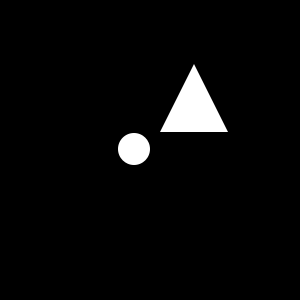rectangle: (118, 133, 150, 165)
triangle: (160, 64, 228, 132)
